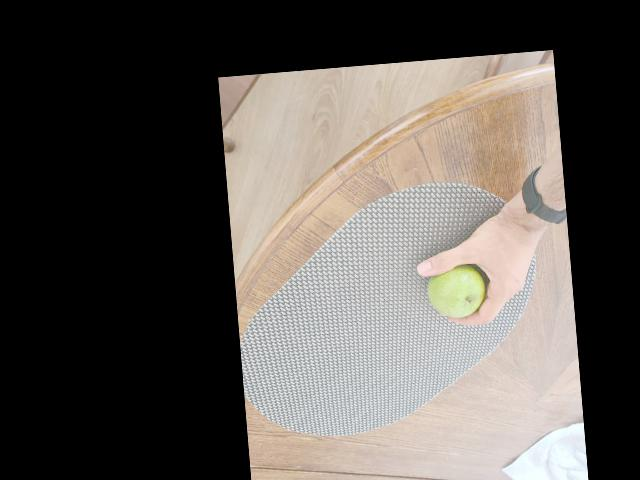apple: (424, 263, 484, 323)
